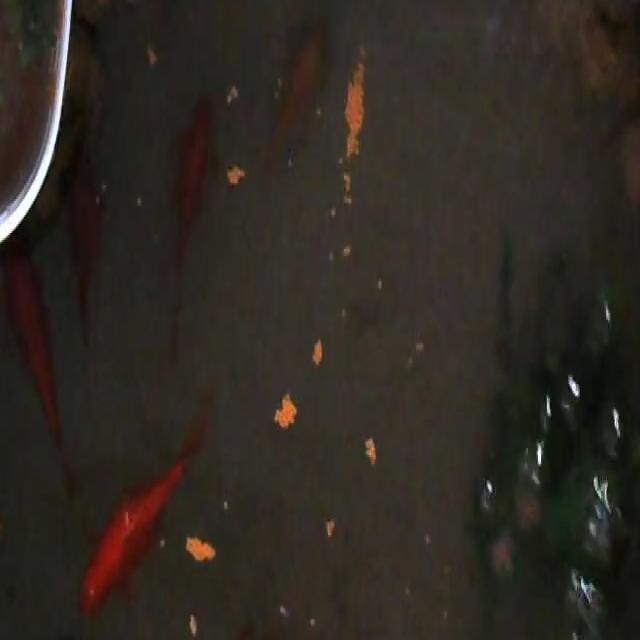fish: (77, 414, 209, 622), (0, 247, 73, 482), (167, 89, 216, 355), (264, 18, 327, 170), (65, 132, 108, 348), (206, 624, 333, 640)
